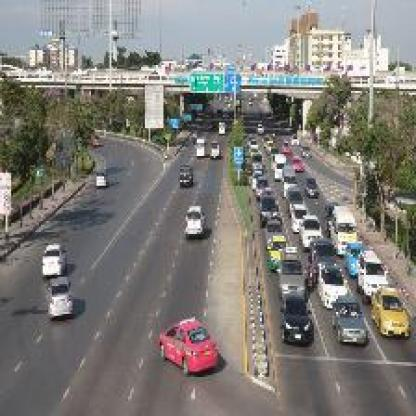other: (160, 311, 216, 375), (371, 287, 411, 343)
